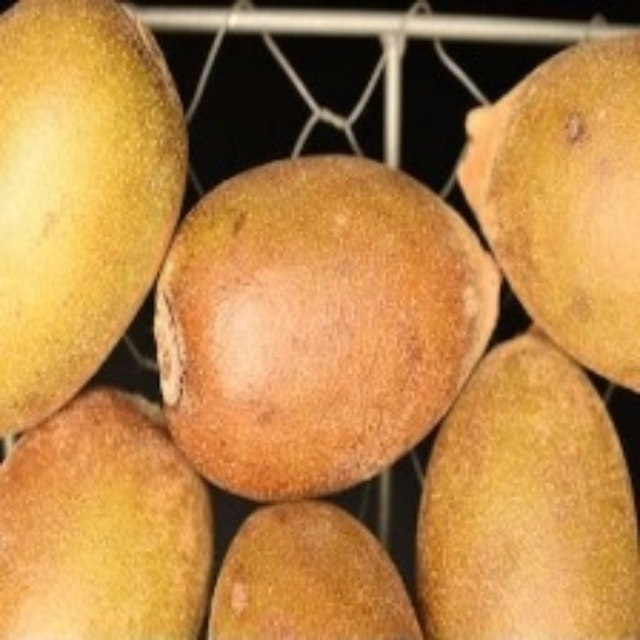kiwi: (154, 167, 485, 505), (12, 10, 176, 424), (446, 38, 639, 387), (414, 338, 636, 638), (7, 380, 208, 631), (183, 486, 400, 636)
